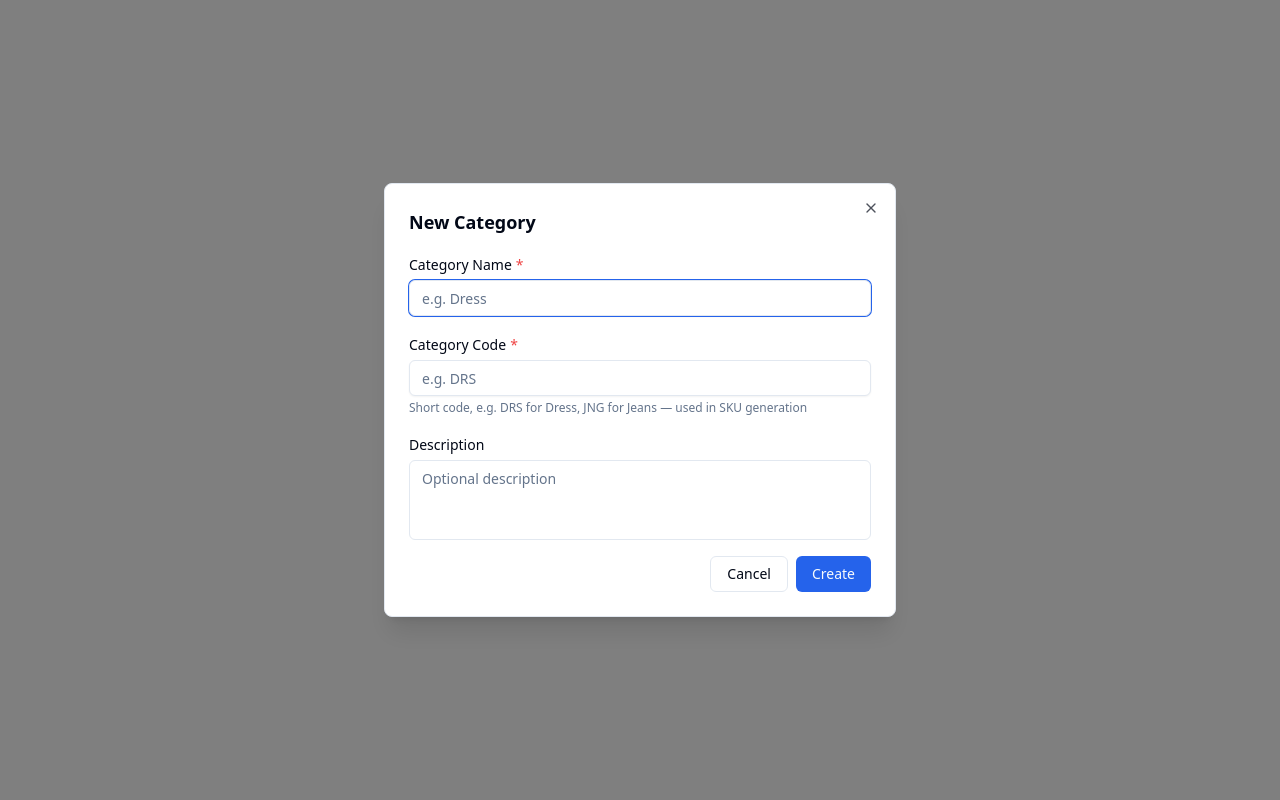
Test: shows validation error if category_code is empty
Type "Dress" into the field with placeholder "e.g. Dress" at (640, 298), box [409,280,871,316]
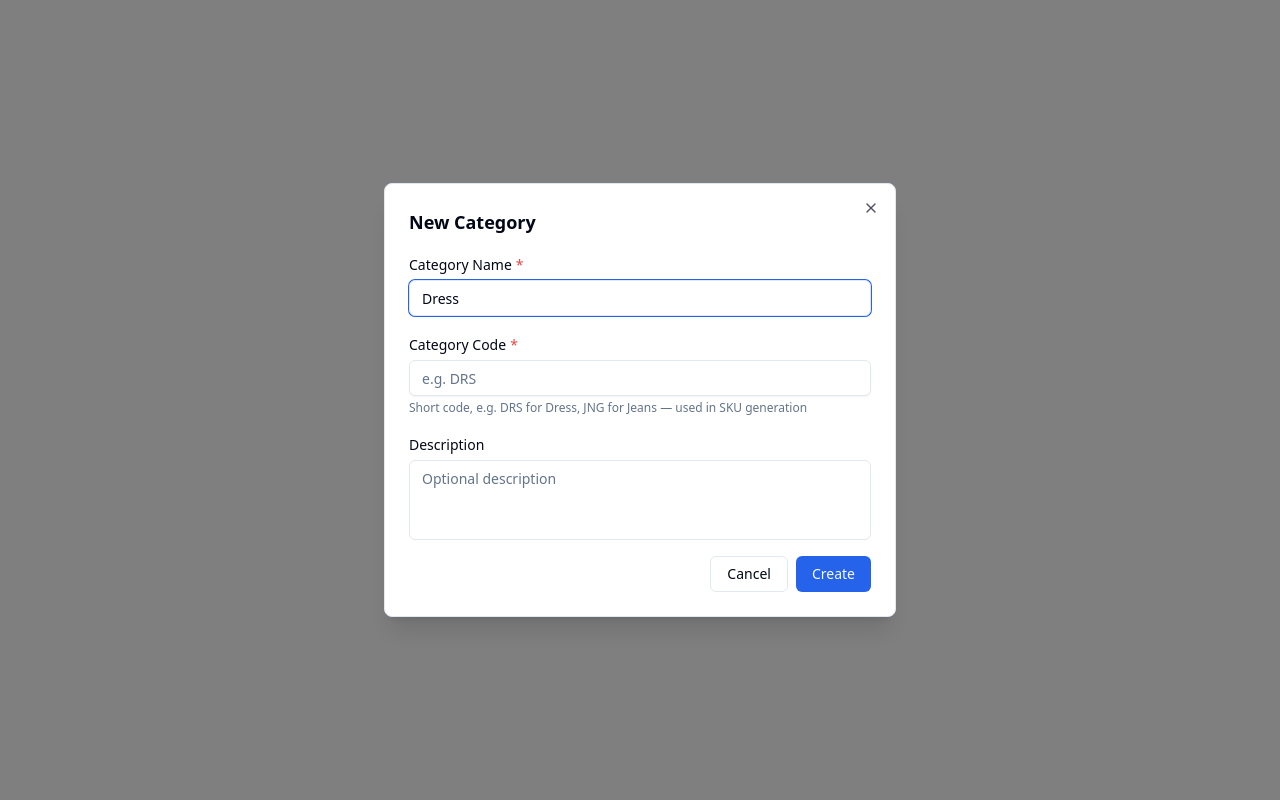
Click the button "Create" at (833, 574), box [796,556,871,592]
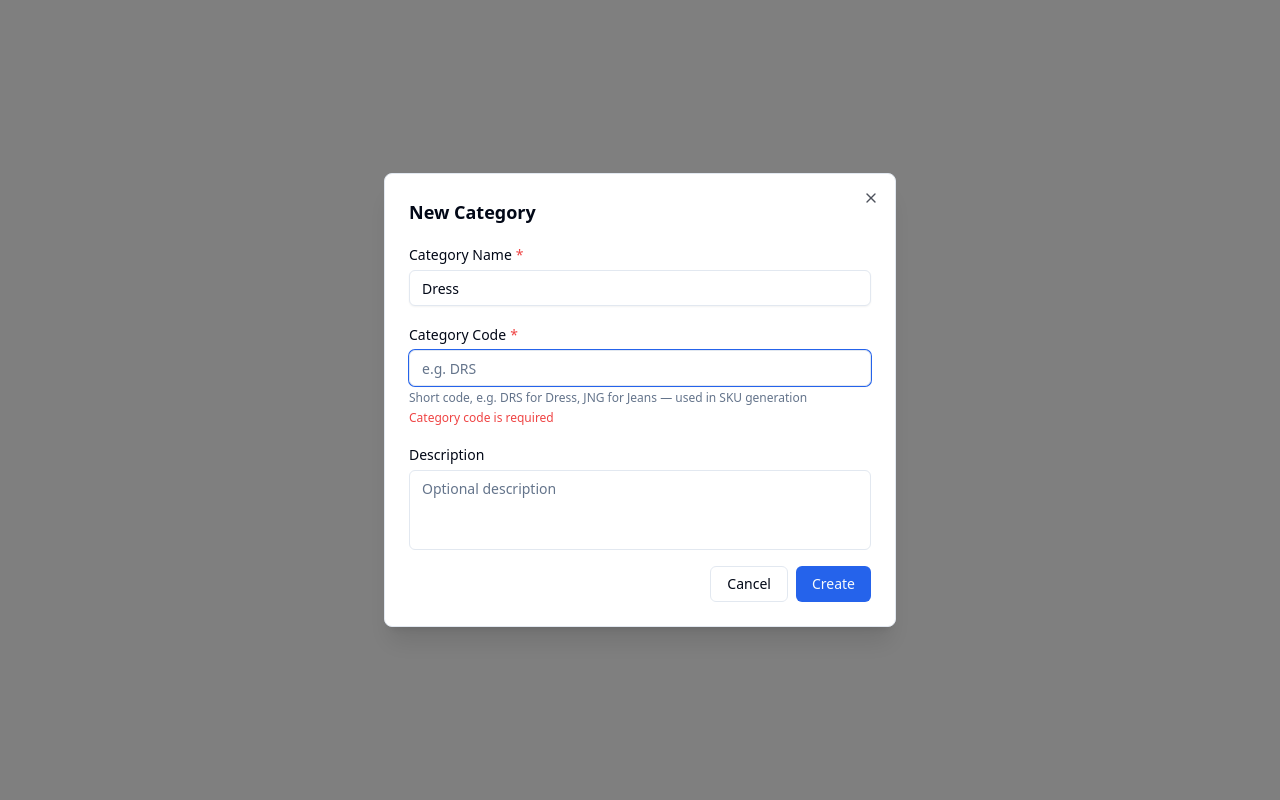
expect the text "Category code is required" is shown: met, box [409,409,554,426]
